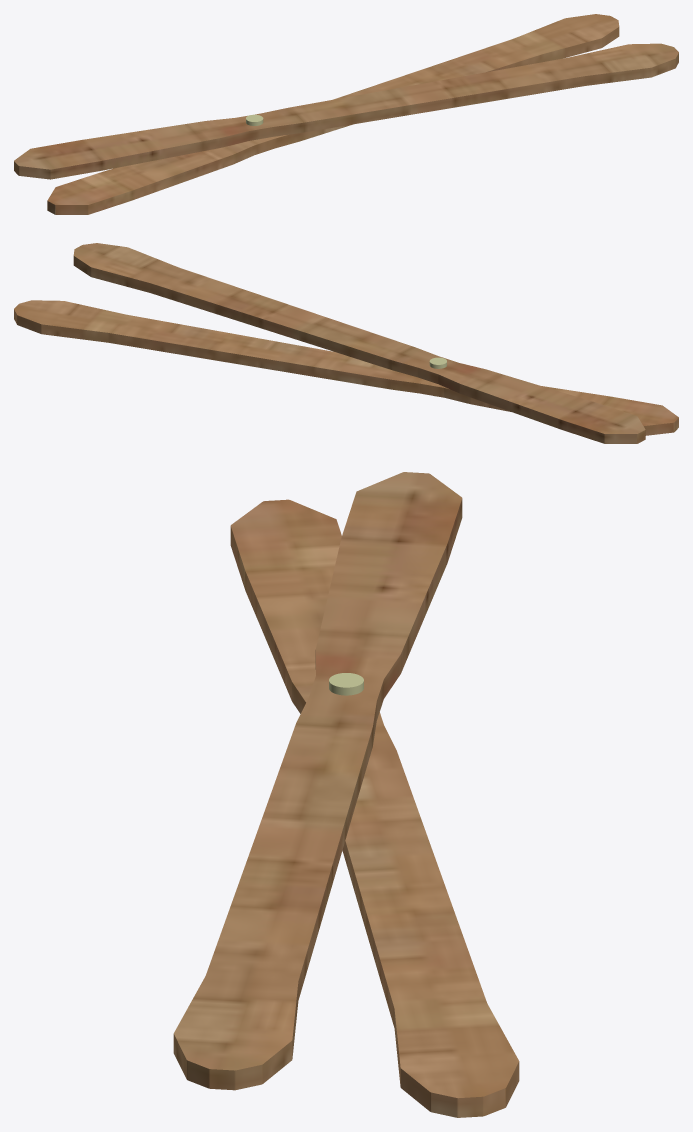
File: Handtools_wooden_tongs__0130.glb
3 renders of one model, top to bottom at view 1: azimuth 30°, elevation 25°; view 2: azimuth 150°, elevation 25°; view 3: azimuth 270°, elevation 25°, orthographic. The views are drawn at different scales.
Parts seen in each view (by area): view 1: moving_arm::arm_strip_1, fixed_arm::arm_strip_0; view 2: moving_arm::arm_strip_1, fixed_arm::arm_strip_0; view 3: moving_arm::arm_strip_1, fixed_arm::arm_strip_0.
Part boxes in pixels (bbox=[...]): moving_arm::arm_strip_1: bbox=[14, 43, 678, 179]; fixed_arm::arm_strip_0: bbox=[47, 14, 619, 214]; moving_arm::arm_strip_1: bbox=[73, 243, 645, 443]; fixed_arm::arm_strip_0: bbox=[14, 300, 678, 435]; moving_arm::arm_strip_1: bbox=[173, 472, 462, 1090]; fixed_arm::arm_strip_0: bbox=[230, 499, 519, 1117].
Size of the model in its own units: 0.3246 by 0.016 by 0.0792.
3 materials, 2 textured.
